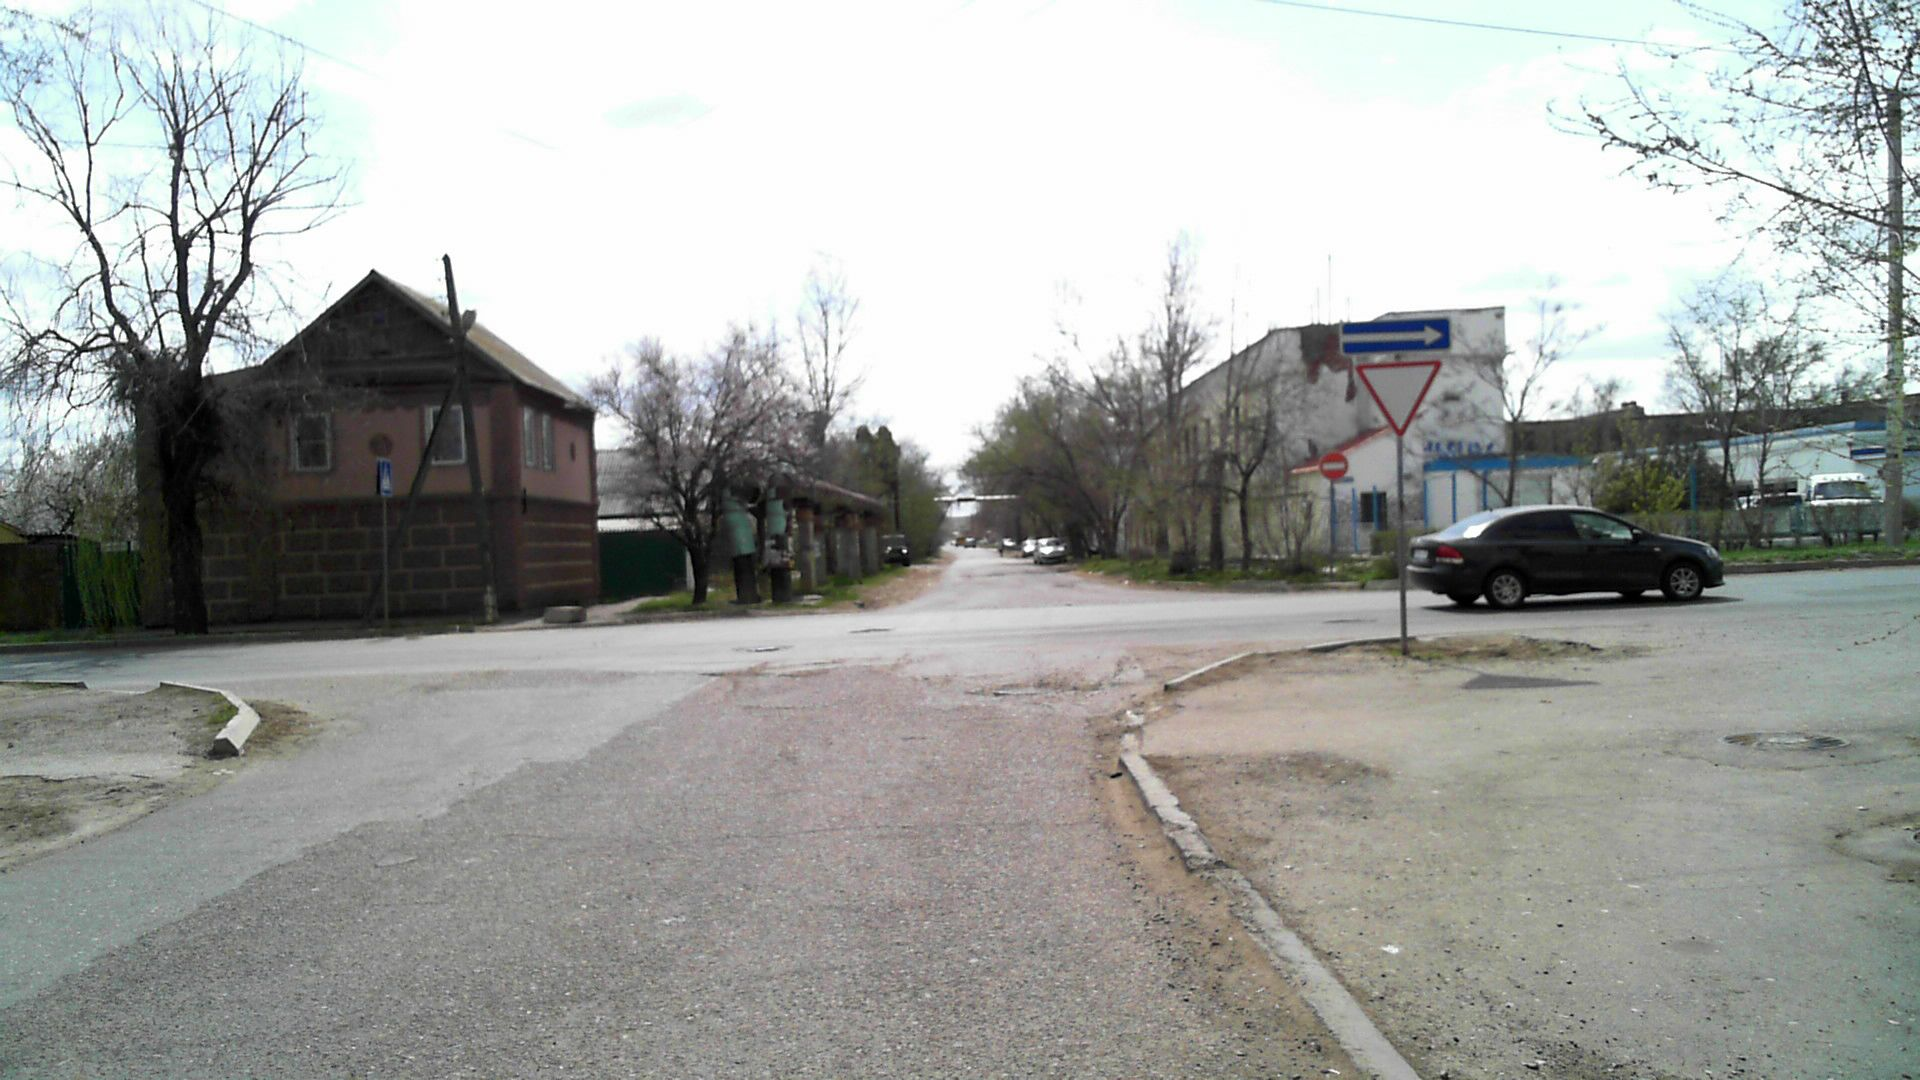One-Way Traffic: (1338, 319, 1451, 353)
